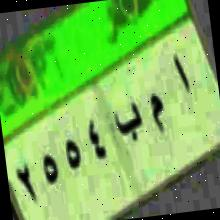2: (14, 158, 40, 210)
4: (84, 111, 109, 171)
5: (38, 148, 62, 196), (61, 132, 84, 182)
alif: (171, 50, 194, 101)
baa: (111, 94, 146, 148)
meem: (148, 88, 170, 141)
